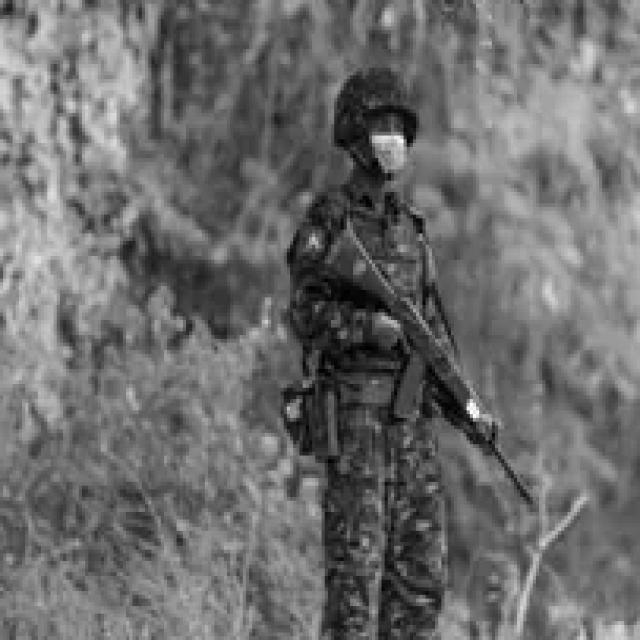gun: (320, 231, 532, 507)
